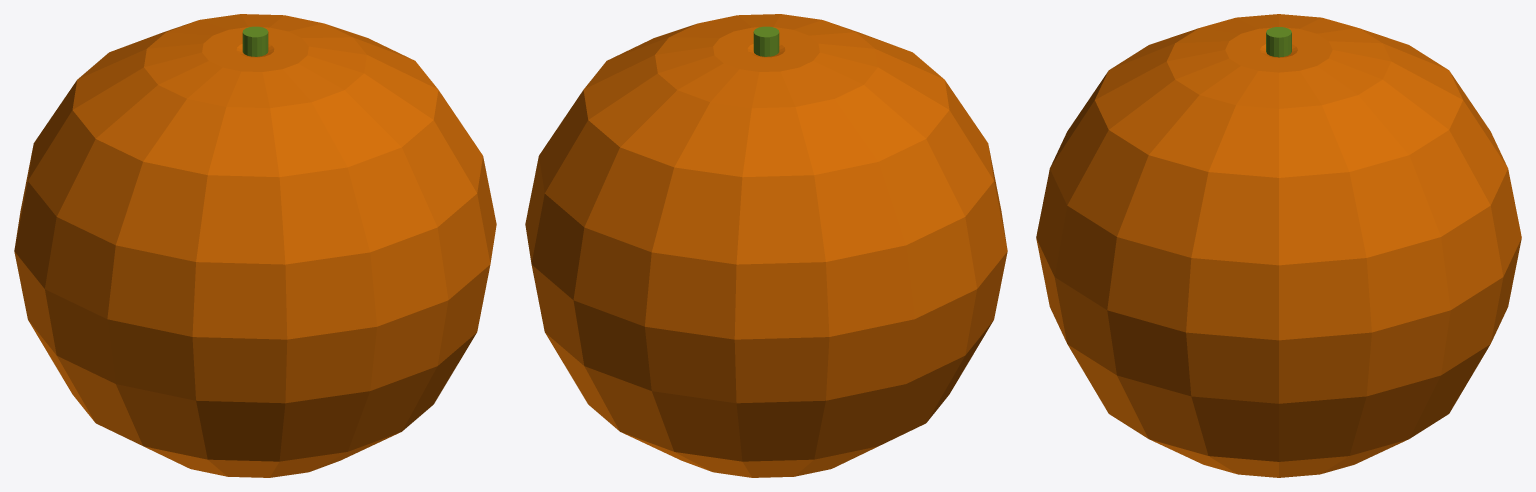
Rendered from orange.fbx.
3 renders of one model, left to right at view 1: azimuth 30°, elevation 25°; view 2: azimuth 150°, elevation 25°; view 3: azimuth 270°, elevation 25°, orthographic.
Parts seen in each view (by area): view 1: ORANGE; view 2: ORANGE; view 3: ORANGE.
Boxes of the visible parts, <box> form: ORANGE: <box>14,14,496,477</box>; ORANGE: <box>525,14,1007,477</box>; ORANGE: <box>1036,14,1521,477</box>.
Bounding box in the file's own units: 200 × 186 × 200.
